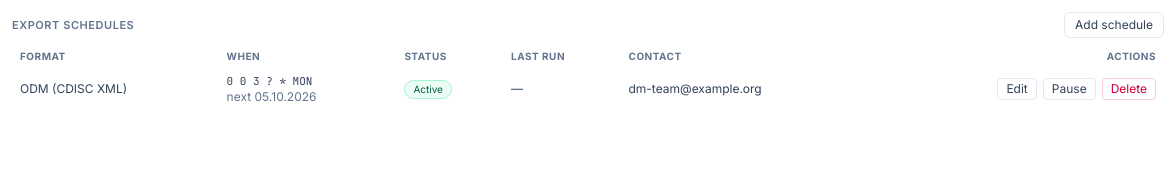
DatasetSchedules › pauses and resumes with a PATCH of enabled alone
Click the button with test id "schedule-pause" at [1069, 89], box top-left (1043, 78), bottom-right (1096, 100)
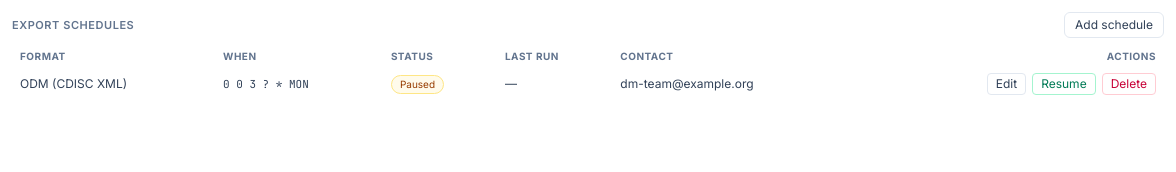
Expected: the text with test id "schedule-status" reads "Paused", top-left (400, 78), bottom-right (435, 90)
Click the button with test id "schedule-resume" at [1064, 84], box top-left (1032, 73), bottom-right (1096, 95)
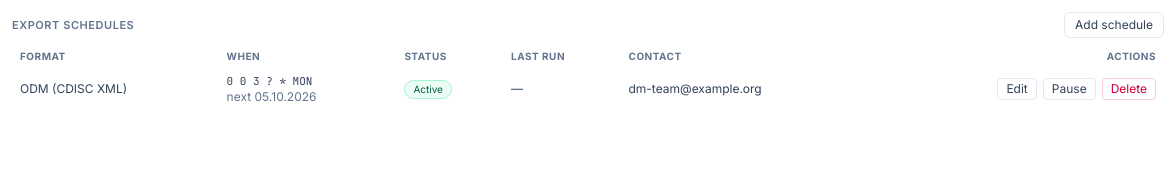
Expected: the text with test id "schedule-status" reads "Active", top-left (413, 83), bottom-right (443, 95)
